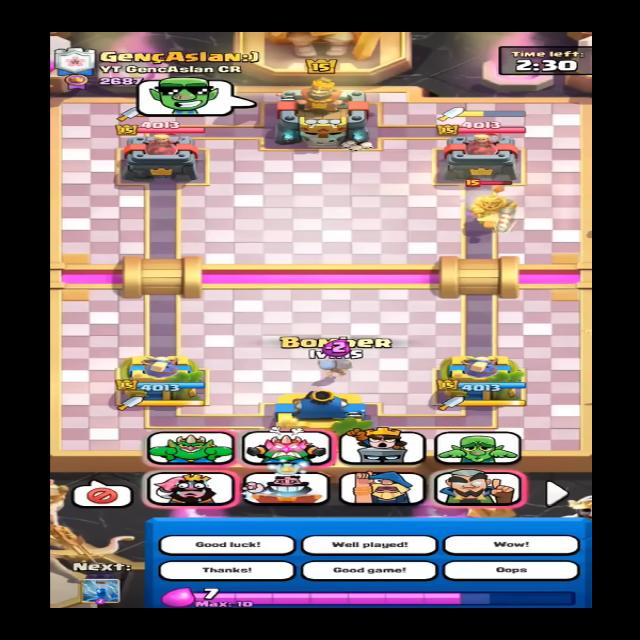prince: (460, 176, 522, 234)
